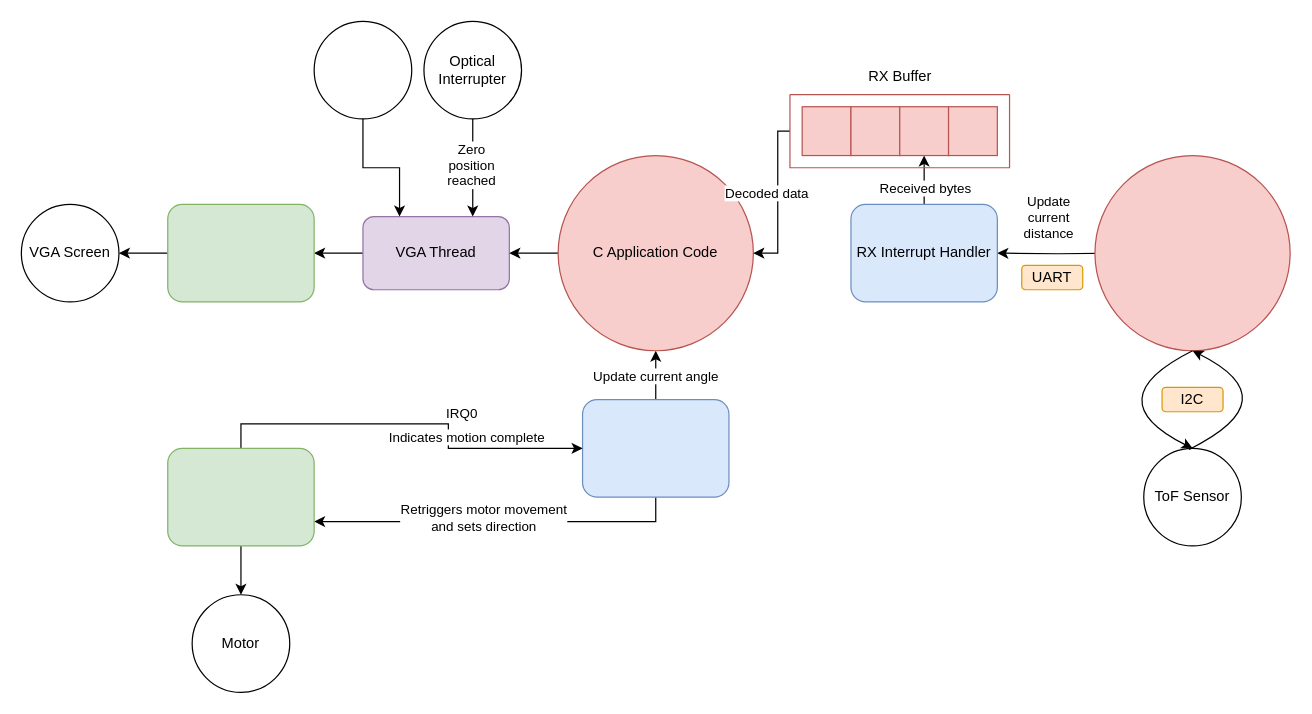
This 1312x714 diagram has some shape labels left out. The box of each missing label's shape, as (x1, y1, x2, y2) in pixels:
Arduino Driver Code: (1094, 154, 1290, 351)
Misc. buttons: (313, 20, 412, 119)
PIO0: (167, 203, 314, 302)
PIO0 Interrupt Handler: (581, 398, 729, 497)
PIO1: (167, 447, 314, 546)
